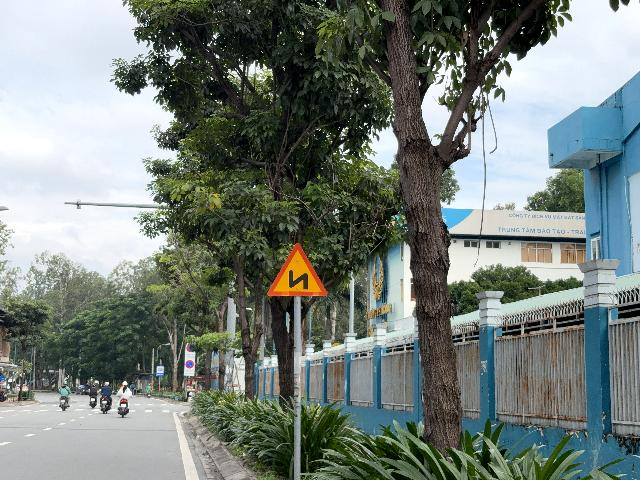nhieu-cho-ngoat-nguy-hiem-lien-tiep: (267, 243, 327, 296)
